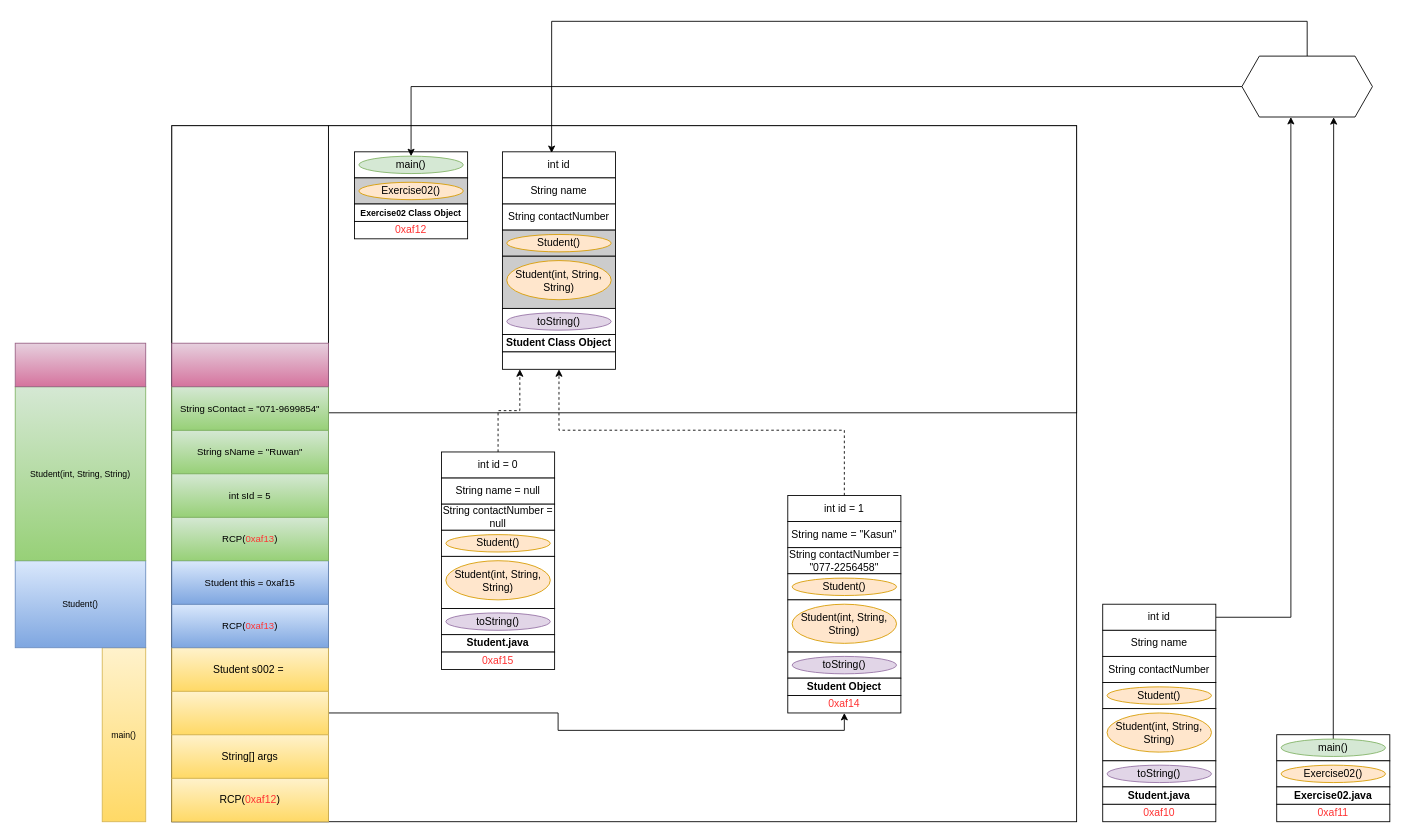
Image size: 1405x837. Some labels were removed from this diagram. The shapes that lost their labels are listed below. From the top down, each one's box as (x1, y1, x2, y2) in pixels, then its label:
(1241, 55, 1372, 117): Class Loader
(14, 342, 146, 387): super()
(502, 351, 616, 369): 0xaf13
(171, 690, 328, 735): Student s001 = 0xaf14
